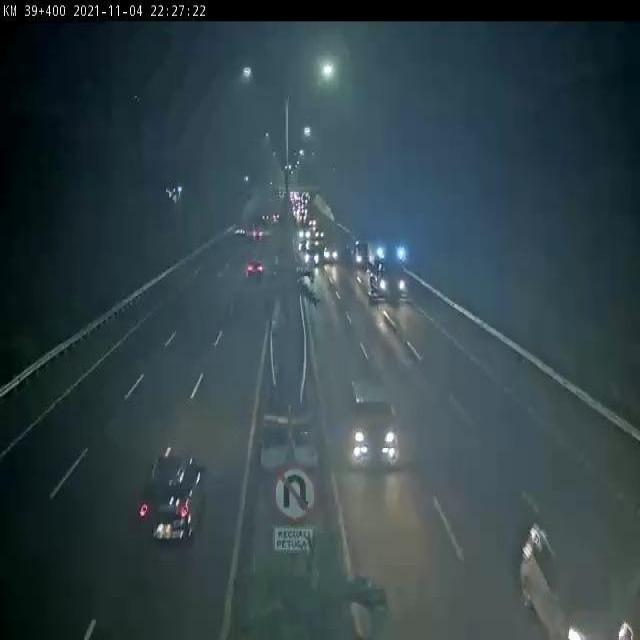car: (518, 514, 632, 640), (137, 456, 208, 539), (347, 377, 398, 471), (246, 256, 266, 283)
truck-m-: (364, 232, 405, 300)
